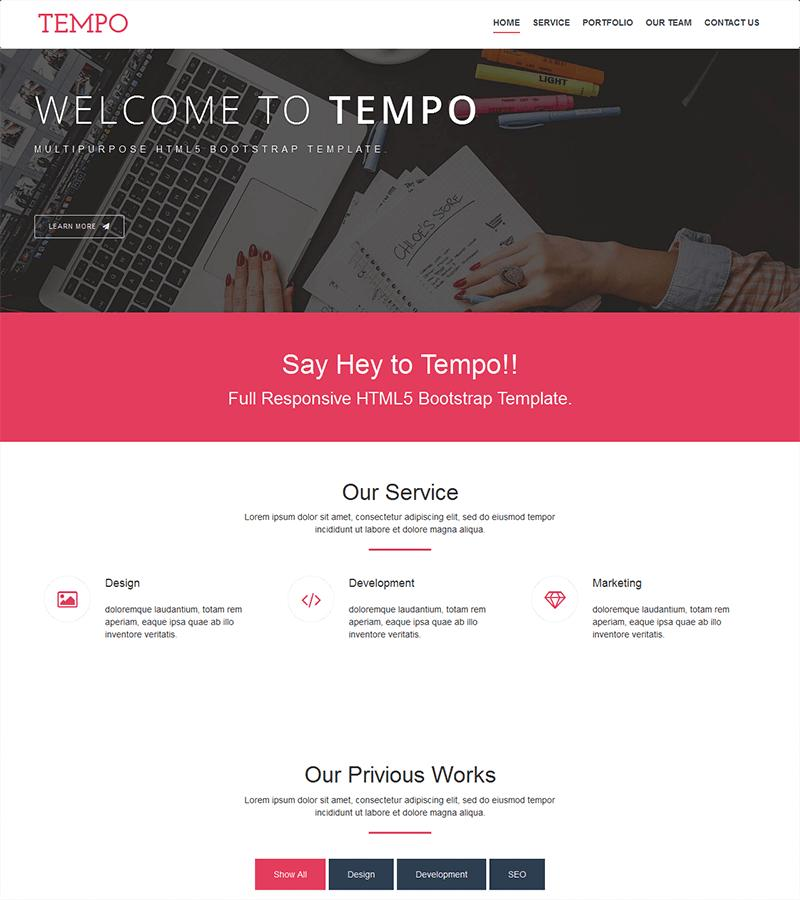button: (395, 851, 489, 890), (246, 855, 328, 890), (489, 850, 552, 893), (329, 853, 396, 890)
